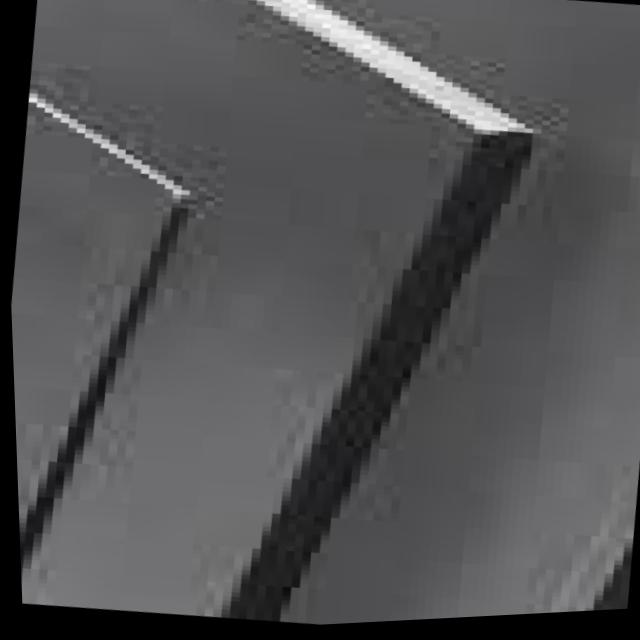metal-plates: (10, 1, 640, 629)
